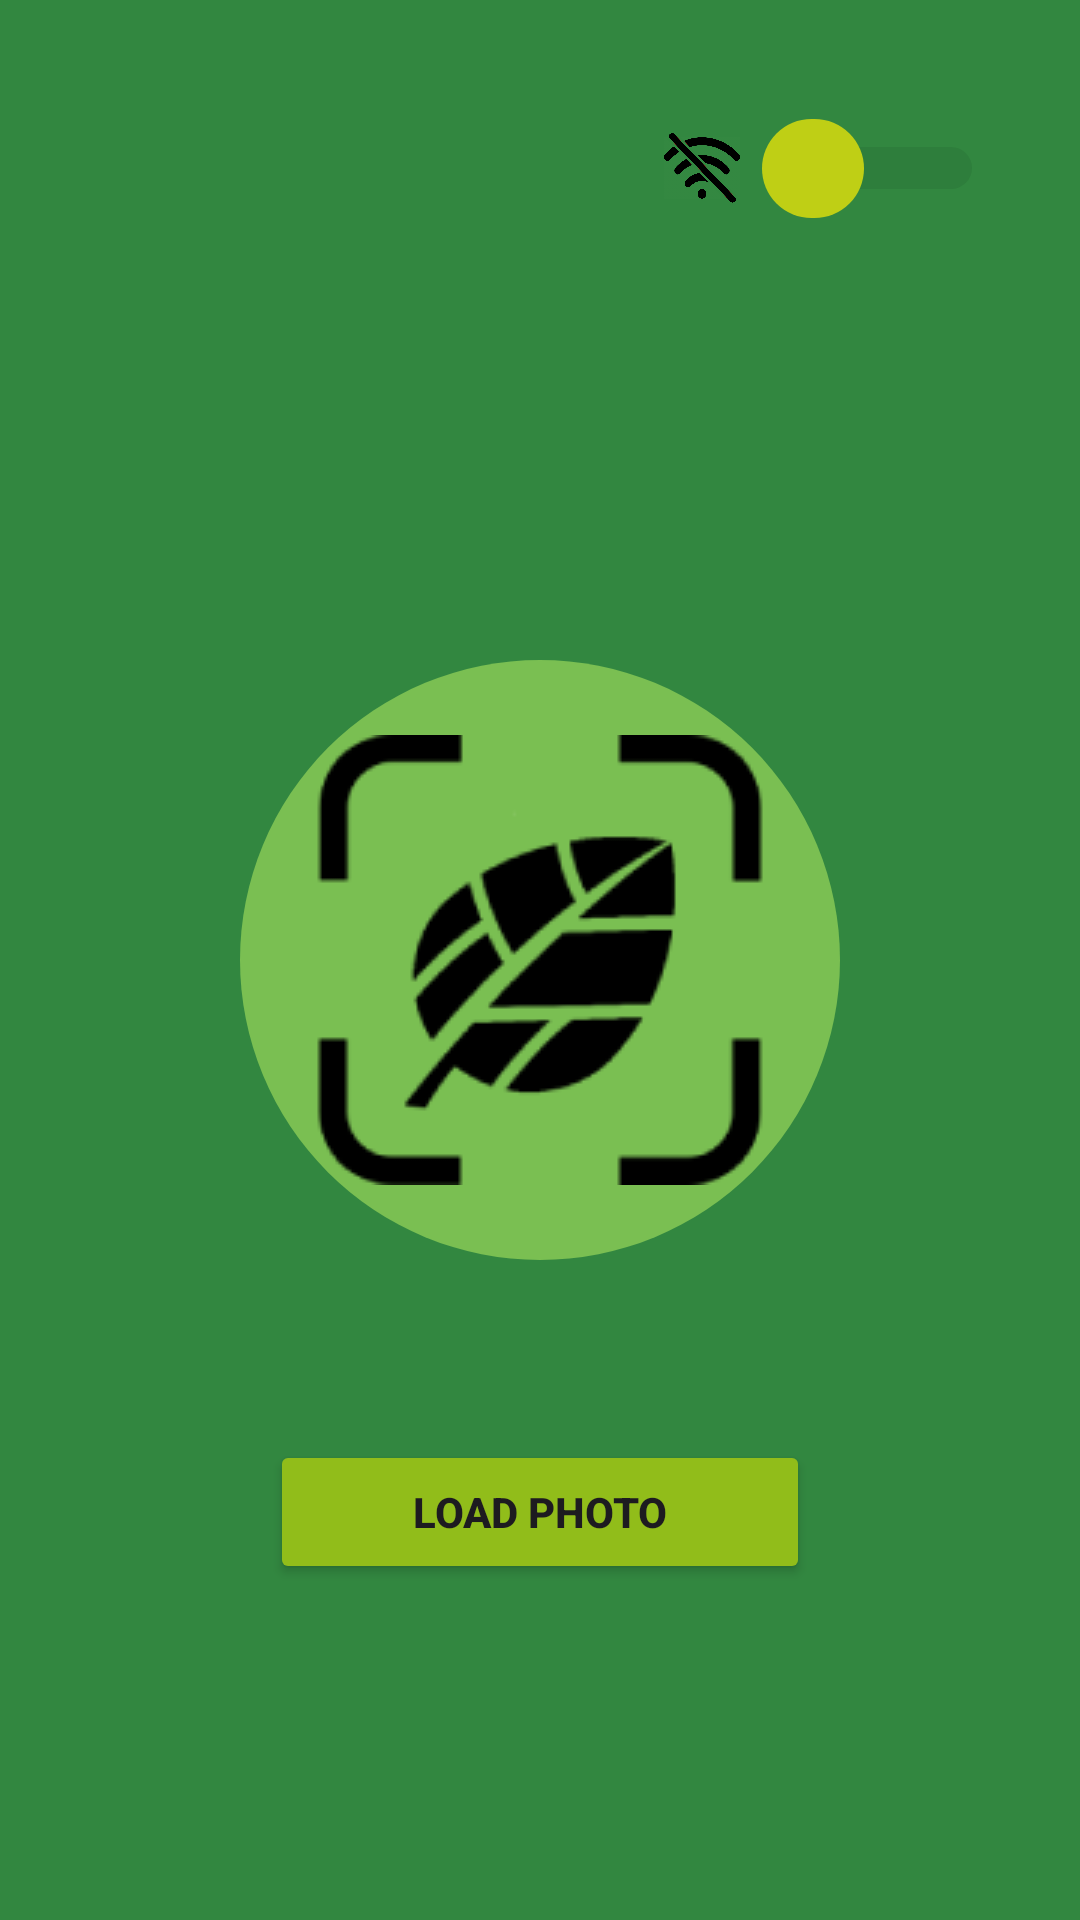

Icon click points for this 1080px×1920px phone screenshot, format point (x, y):
wifi off pic: point (702, 168)
